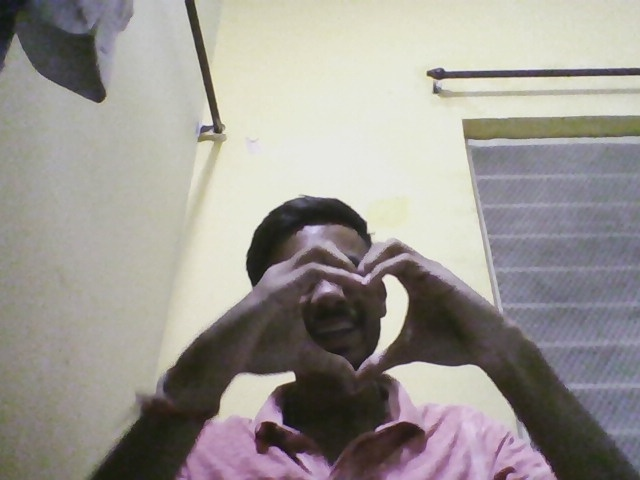iloveyou: (204, 236, 507, 399)
